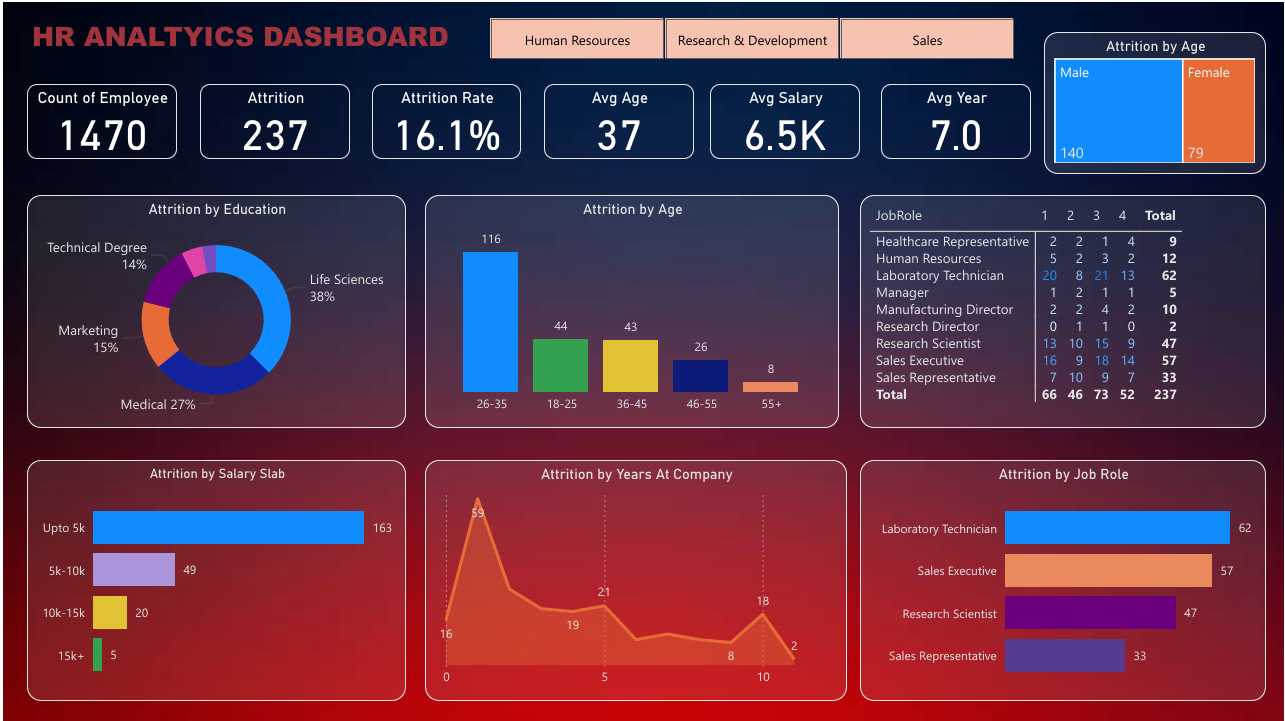

What the dashboard file says about the page in this screenshot:
{"tool":"powerbi","page":{"name":"Page 1","canvas":[1280,720],"ordinal":0},"visuals":[{"type":"card","title":"Count of Employee","fields":{"Values":["CountNonNull(HR_Analytics.EmpID)"]},"box":[23.3,80.7,149.8,74.9],"z":0},{"type":"card","title":"Attrition","fields":{"Values":["Sum(HR_Analytics.Attrition Count)"]},"box":[196.5,80.7,149.8,74.9],"z":1000},{"type":"card","title":"Attrition Rate","fields":{"Values":["HR_Analytics.AttritionRate"]},"box":[367.7,80.7,149.8,74.9],"z":2000},{"type":"card","title":"Avg Age","fields":{"Values":["Avg(HR_Analytics.Age)"]},"box":[539.8,80.7,149.8,74.9],"z":3000},{"type":"card","title":"Avg Salary","fields":{"Values":["Avg(HR_Analytics.MonthlyIncome)"]},"box":[706.1,80.7,149.8,74.9],"z":4000},{"type":"card","title":"Avg Year","fields":{"Values":["Avg(HR_Analytics.YearsAtCompany)"]},"box":[877.3,80.7,149.8,74.9],"z":5000},{"type":"donutChart","title":"Attrition by Education","fields":{"Category":["HR_Analytics.EducationField"],"Y":["Sum(HR_Analytics.Attrition Count)"]},"box":[23.3,191.6,378.4,233.4],"z":6000},{"type":"columnChart","title":"Attrition by Age","fields":{"Category":["HR_Analytics.AgeGroup"],"Y":["Sum(HR_Analytics.Attrition Count)"]},"box":[421.2,191.6,413.4,233.4],"z":7000},{"type":"barChart","title":"Attrition by Salary Slab","fields":{"Category":["HR_Analytics.SalarySlab"],"Y":["Sum(HR_Analytics.Attrition Count)"]},"box":[23.3,457.1,378.4,241.2],"z":8000},{"type":"barChart","title":"Attrition by Job Role","fields":{"Category":["HR_Analytics.JobRole"],"Y":["Sum(HR_Analytics.Attrition Count)"]},"box":[855.9,457.1,405.6,241.2],"z":9000},{"type":"areaChart","title":"Attrition by Years At Company","fields":{"Category":["HR_Analytics.YearsAtCompany"],"Y":["Sum(HR_Analytics.Attrition Count)"]},"box":[421.2,457.1,422.1,241.2],"z":10000},{"type":"treemap","title":"Attrition by Age","fields":{"Group":["HR_Analytics.Gender"],"Values":["Sum(HR_Analytics.Attrition Count)"]},"box":[1039.8,29.2,221.8,142],"z":11000},{"type":"slicer","fields":{"Values":["HR_Analytics.Department"]},"box":[461,8.8,572.9,54.5],"z":12000},{"type":"textbox","box":[23.3,8.8,437.7,54.5],"z":13000},{"type":"pivotTable","fields":{"Rows":["HR_Analytics.JobRole"],"Values":["Sum(HR_Analytics.Attrition Count)"],"Columns":["HR_Analytics.JobSatisfaction"]},"box":[855.9,191.6,405.6,233.4],"z":14000}]}

Visuals, with their boxes in screenshot pixels (x1, y1, x2, y2), scaled from the page's 1280x720 canvas onto the 1285x721 screenshot:
"Count of Employee" card: l=23, t=81, r=174, b=156
"Attrition" card: l=197, t=81, r=348, b=156
"Attrition Rate" card: l=369, t=81, r=520, b=156
"Avg Age" card: l=542, t=81, r=692, b=156
"Avg Salary" card: l=709, t=81, r=859, b=156
"Avg Year" card: l=881, t=81, r=1031, b=156
"Attrition by Education" donutChart: l=23, t=192, r=403, b=426
"Attrition by Age" columnChart: l=423, t=192, r=838, b=426
"Attrition by Salary Slab" barChart: l=23, t=458, r=403, b=699
"Attrition by Job Role" barChart: l=859, t=458, r=1266, b=699
"Attrition by Years At Company" areaChart: l=423, t=458, r=847, b=699
"Attrition by Age" treemap: l=1044, t=29, r=1267, b=171
slicer - HR_Analytics.Department: l=463, t=9, r=1038, b=63
textbox: l=23, t=9, r=463, b=63
pivotTable - HR_Analytics.JobRole x Sum(HR_Analytics.Attrition Count): l=859, t=192, r=1266, b=426
